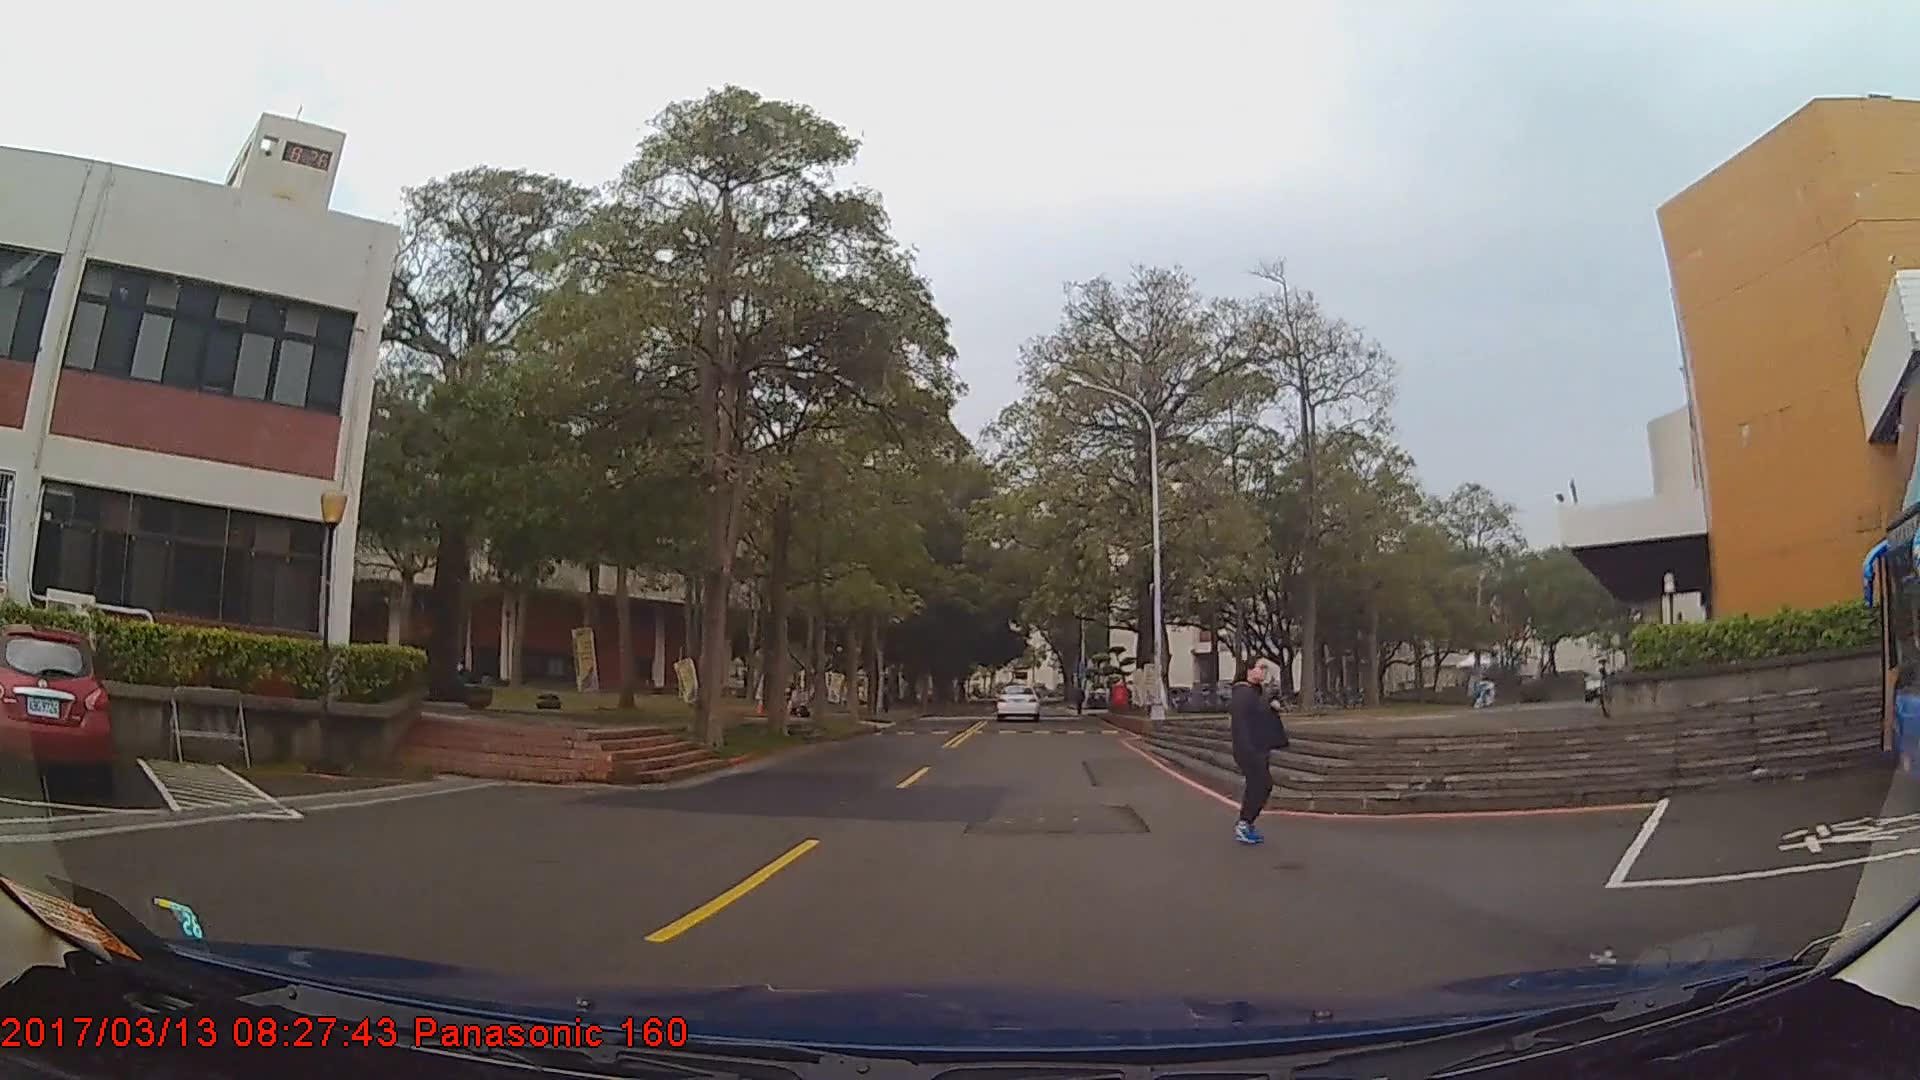pedestrian: (1226, 653, 1296, 842)
vehicle: (0, 623, 109, 794), (996, 682, 1041, 720)
